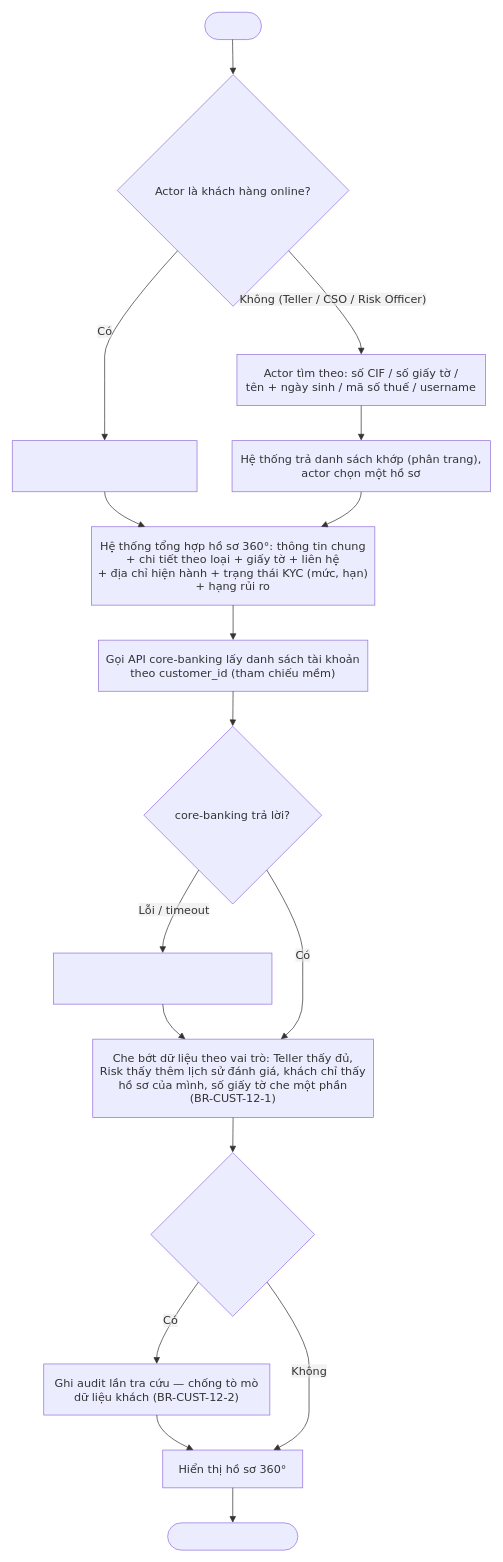
This 503x1562 diagram has some shape labels left out. Each missing label, with the centre of its shape:
"Actor là nhân viên?" belongs at [232,1234].
"Bắt đầu" belongs at [232,26].
"Bỏ bước tìm — luôn là hồ sơ gắn user đang đăng nhập" belongs at [104,466].
"Kết thúc — thành công" belongs at [232,1536].
"Vẫn hiển thị hồ sơ, phần tài khoản báo tạm thời không lấy được" belongs at [162,978].
